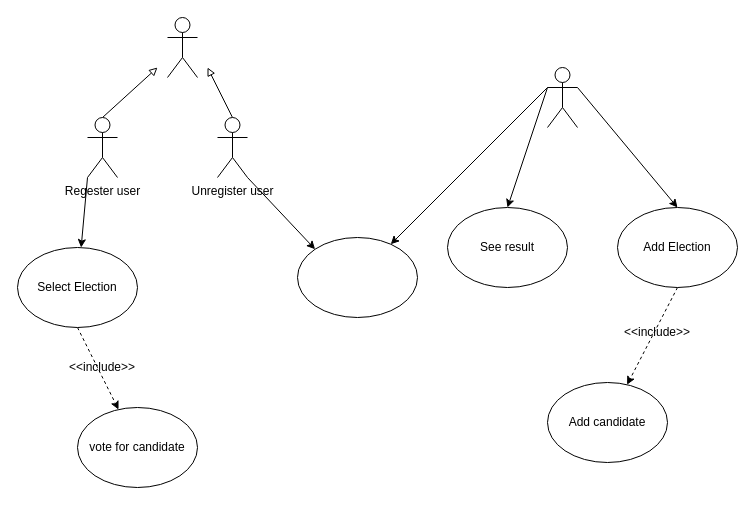
The diagram is 755 pixels wide and 505 high, and some of its shapes have lost their labels. The shapes that lost their labels are listed below. From the top down, each one's centre as x and y in pixels, then its label:
At point 182,47: "User".
At point 562,97: "Admin".
At point 357,277: "Login".
